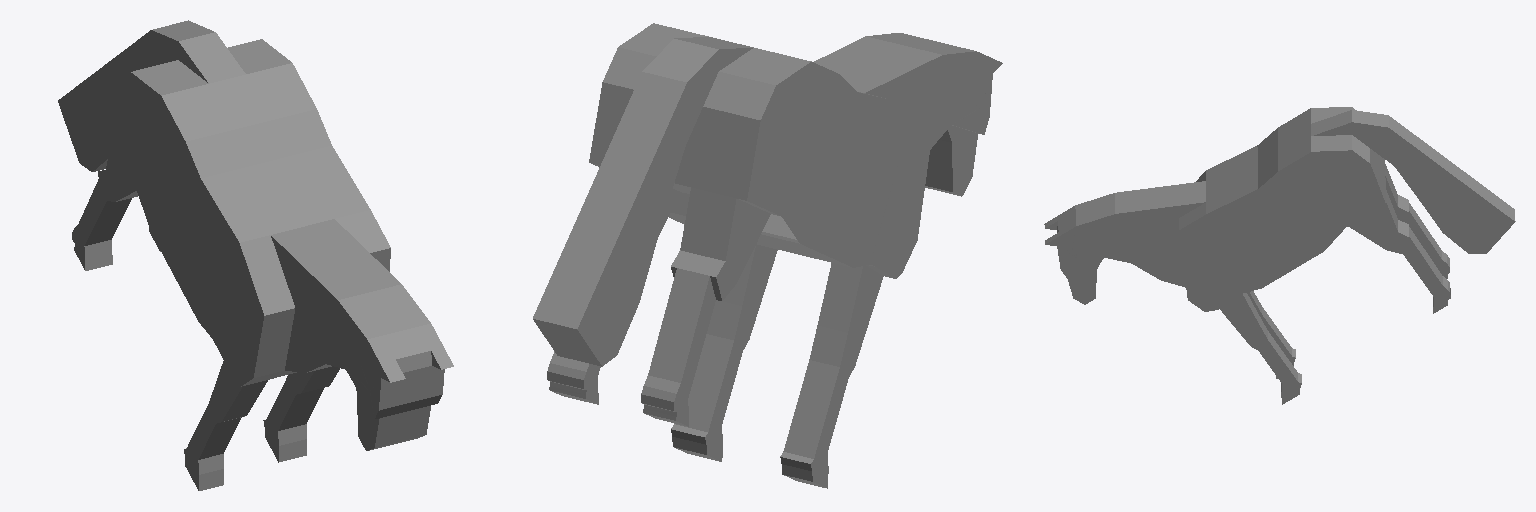
robot.urdf — cube.urdf:
<?xml version="0.0" ?> 
<robot name="cube.urdf"> 
<link name="legobrick"> 
<contact> 
<lateral_friction value="1.0"/>
<rolling_friction value="0.0"/>
<contact_cfm value="0.0"/>
<contact_erp value="1.0"/>
</contact> 
<inertial> 
<origin rpy="0 0 0" xyz="0.0 0.0 0.0"/> 
<mass value="0.1"/> 
<inertia ixx="1" ixy="0" ixz="0" iyy="1" iyz="0" izz="1"/> 
</inertial> 
<visual> 
<origin rpy="1.570796 0 0" xyz="0.00021568917624521143 0.004110293582375497 5.362978927203145e-05"/> 
<geometry> 
<mesh filename="913eada88ee80ad9ea0a7c209652f07c.obj" scale="1 1 1"/> 
</geometry> 
<material name="yellow"> 
<color rgba="0.6 0.6 0.6 1"/> 
</material> 
</visual> 
<collision> 
<origin rpy="1.570796 0 0" xyz="0.00021568917624521143 0.004110293582375497 5.362978927203145e-05"/> 
<geometry> 
<mesh filename="913eada88ee80ad9ea0a7c209652f07c_col.obj" scale="1 1 1"/> 
</geometry> 
</collision> 
</link> 
</robot>

--- Render facts (derived) ---
The picture shows the robot from 3 angles, left to right: view 1: azimuth 30°, elevation 25°; view 2: azimuth 150°, elevation 25°; view 3: azimuth 270°, elevation 25°; orthographic projection.
Model cube.urdf with 1 links and 0 joints (none), rooted at legobrick, posed every joint at zero.
Visible links, largest first — view 1: legobrick; view 2: legobrick; view 3: legobrick.
Boxes of the visible links, x1,y1,x2,y2 form: legobrick: (58,20,453,490); legobrick: (533,23,1002,488); legobrick: (1044,107,1515,404).
Bounding box of the posed robot: 0.0158 × 0.0703 × 0.045 m (x, y, z).
1 mesh visuals loaded from 1 distinct referenced files (1 OBJ).